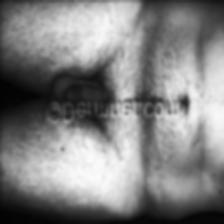Toxin: (62, 0, 138, 69)
